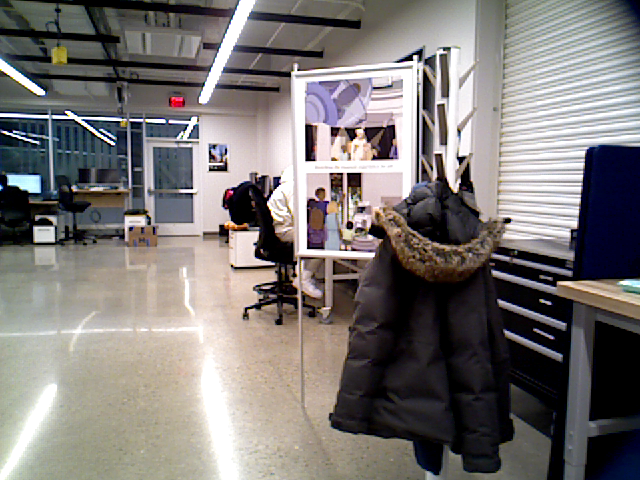painting3: (207, 141, 229, 171)
